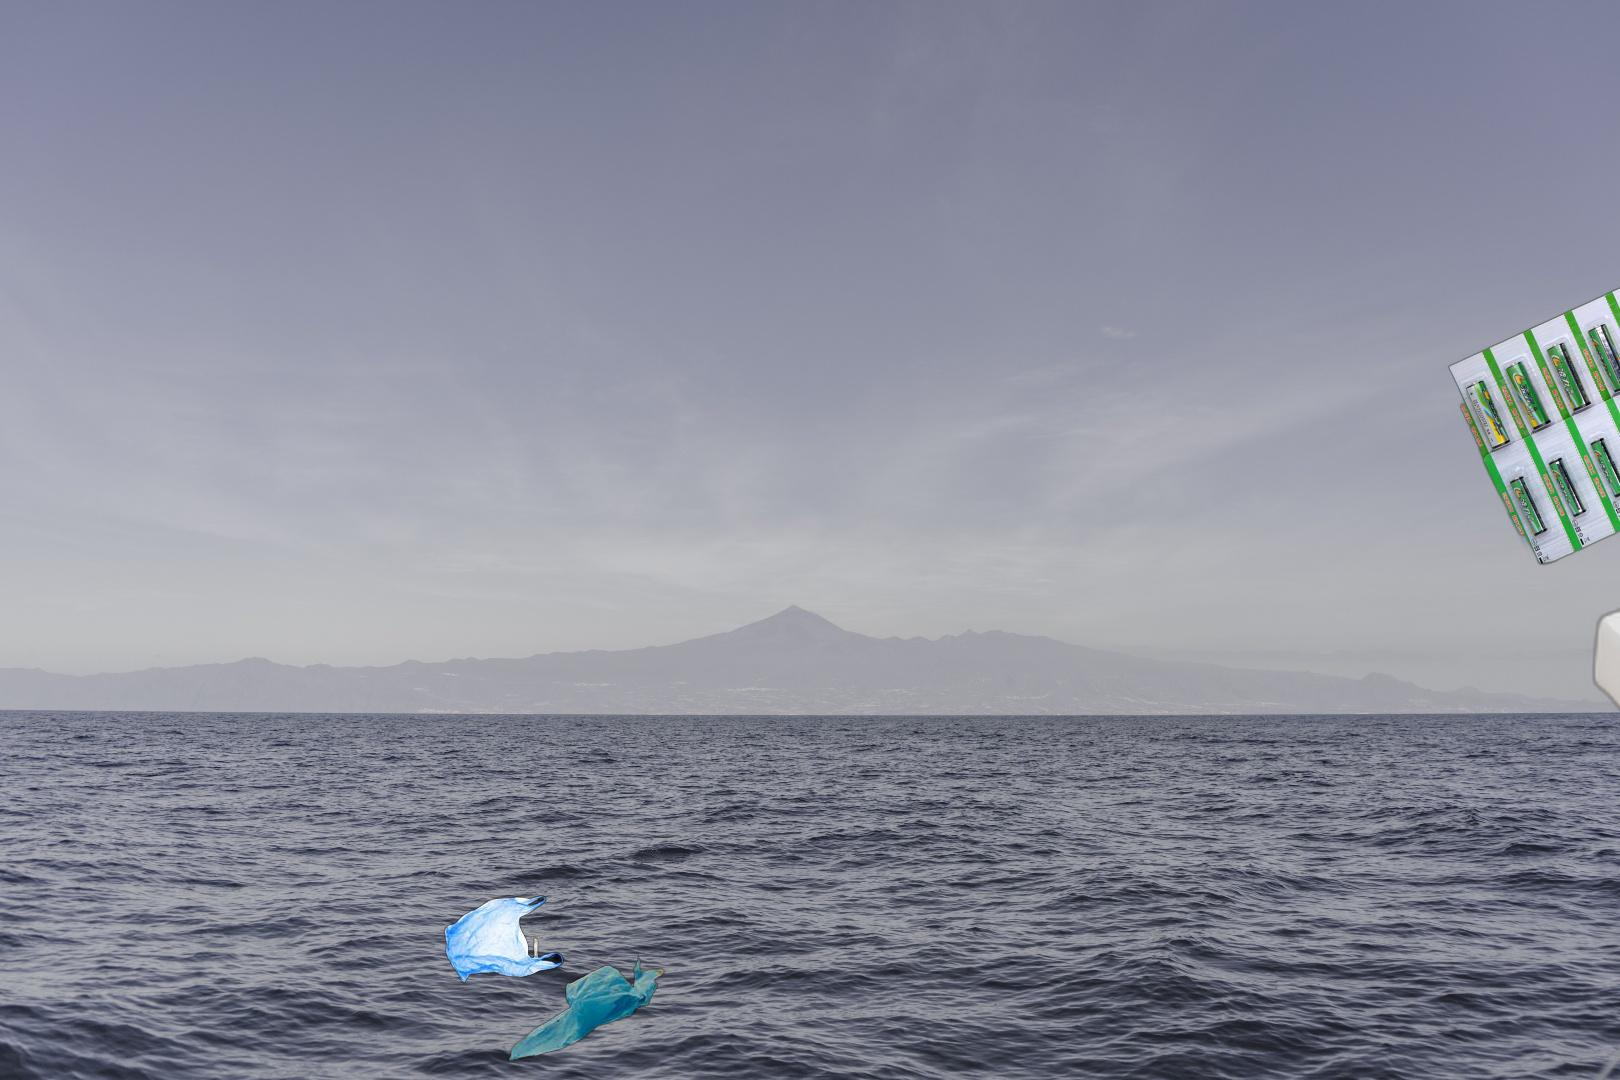battery: (1445, 225, 1620, 567)
plastic-bag: (441, 892, 667, 1078)
trashbox-cardboard: (1584, 415, 1620, 1060)
